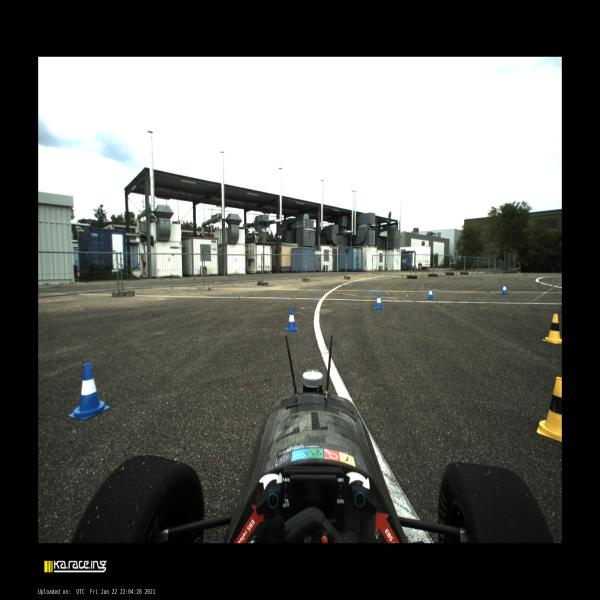blue_cone: (69, 363, 110, 420), (285, 308, 299, 332), (373, 293, 384, 309), (426, 287, 434, 300), (501, 283, 508, 295)
yellow_cone: (537, 377, 562, 442), (542, 314, 562, 344)
